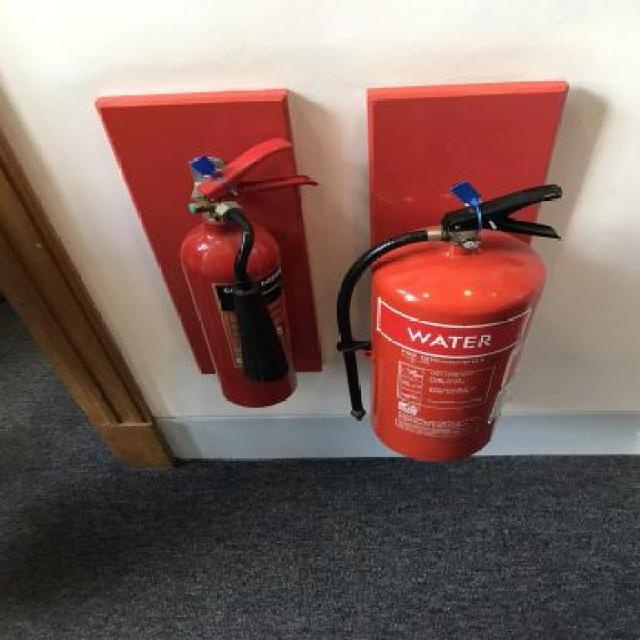fire extinguisher: (340, 182, 563, 463), (181, 138, 315, 410)
